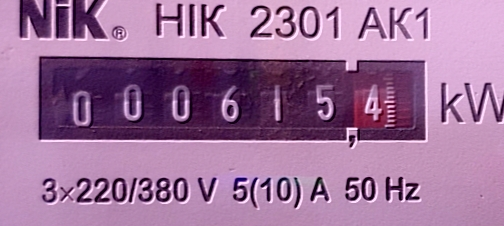0: (166, 80, 192, 123), (67, 85, 93, 127), (119, 80, 143, 120)
1: (269, 80, 284, 122)
4: (361, 79, 381, 121)
5: (312, 79, 336, 121)
6: (216, 81, 241, 122)
screen: (21, 36, 439, 161)
